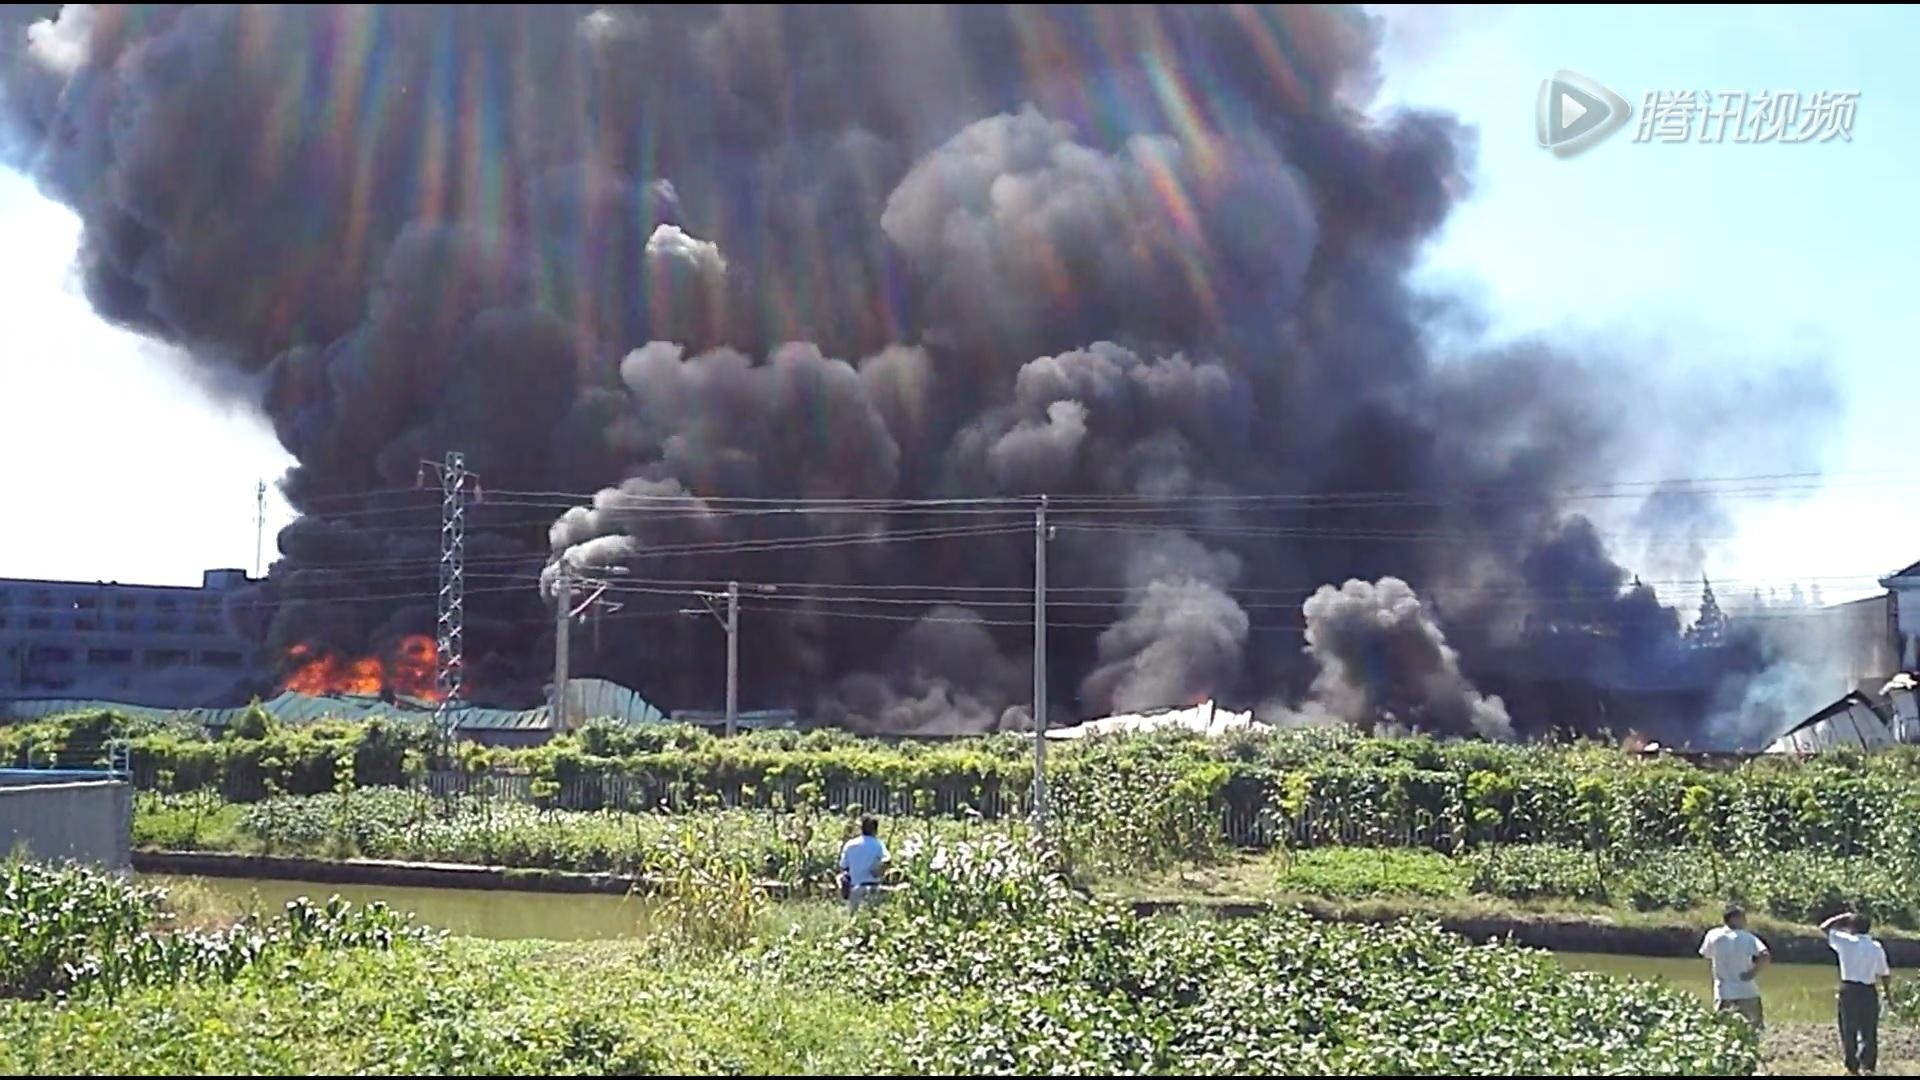fire: (277, 626, 456, 705)
